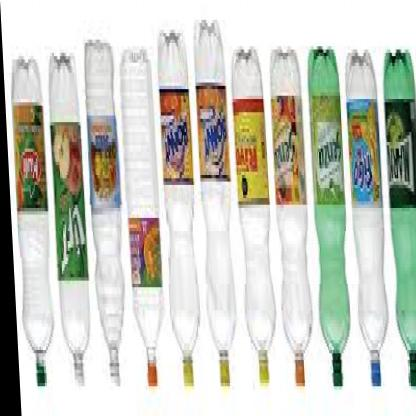Plastic: (78, 28, 129, 398), (115, 25, 166, 391), (190, 15, 239, 391), (226, 23, 275, 396), (265, 28, 314, 391), (42, 35, 91, 391), (302, 40, 350, 396), (7, 37, 53, 400), (340, 44, 388, 388), (155, 33, 200, 396), (377, 32, 416, 392)
